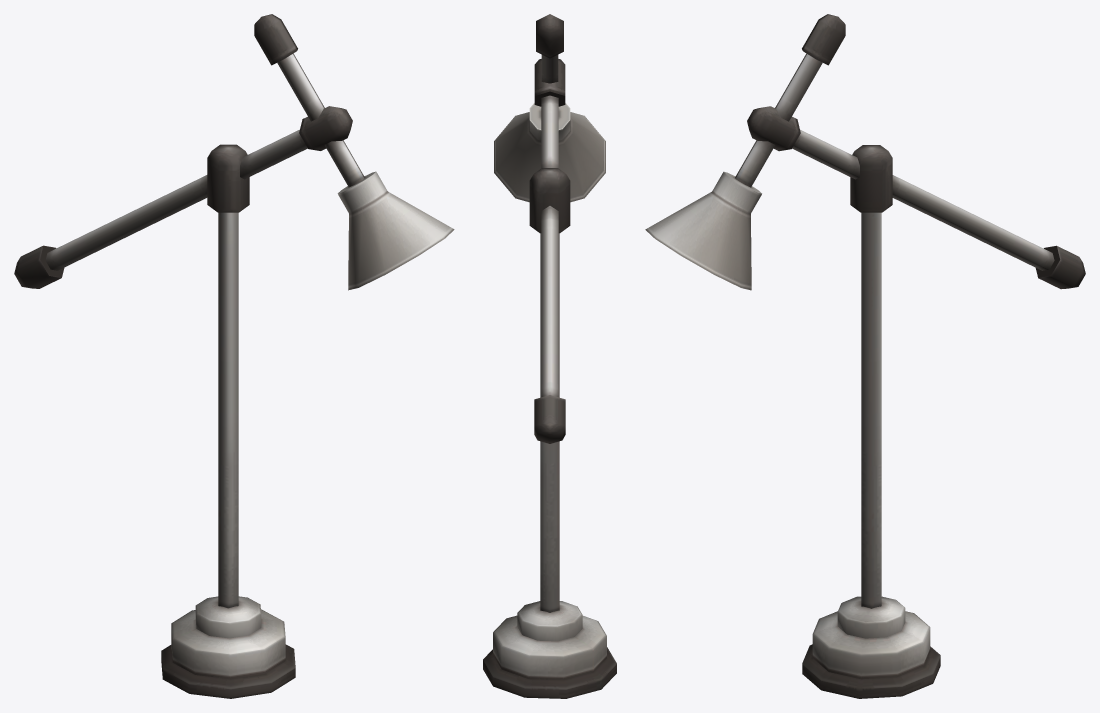
The model's file is my_wildhunt_01_lamp_01.glb.
3 views of the same model, side by side, from view 1: azimuth 30°, elevation 25°; view 2: azimuth 150°, elevation 25°; view 3: azimuth 270°, elevation 25° (orthographic). The views are drawn at different scales.
Visible parts, largest first — view 1: my_wildhunt_01_lamp_01; view 2: my_wildhunt_01_lamp_01; view 3: my_wildhunt_01_lamp_01.
Boxes of the visible parts, x1=… form: my_wildhunt_01_lamp_01: x1=14, y1=14, x2=454, y2=698; my_wildhunt_01_lamp_01: x1=483, y1=14, x2=616, y2=698; my_wildhunt_01_lamp_01: x1=645, y1=14, x2=1085, y2=698.
Bounding box in the file's own units: 0.00367 × 0.0093 × 0.00559.
1 material, 1 textured.
